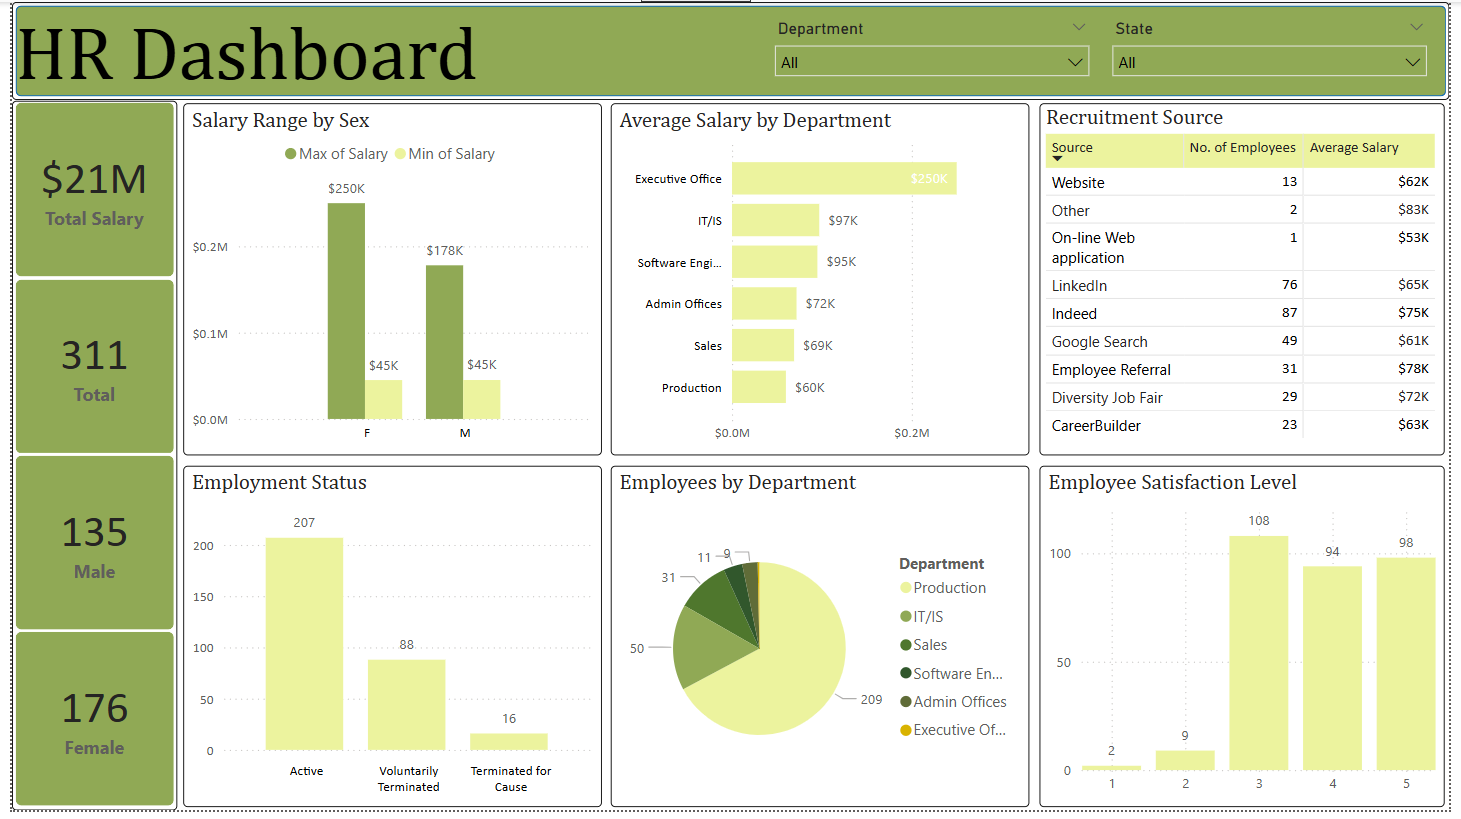

This screenshot's page, from the dashboard's own definition file:
{"tool":"powerbi","page":{"name":"Page 1","canvas":[1280,720],"ordinal":0},"visuals":[{"type":"clusteredColumnChart","title":"Salary Range by Sex","fields":{"Category":["HRDataset_v14.Sex"],"Y":["Max(HRDataset_v14.Salary)","Min(HRDataset_v14.Salary)1"]},"box":[152,90.5,372.8,313.7],"z":0},{"type":"pieChart","title":"Employees by Department","fields":{"Category":["HRDataset_v14.Department"],"Y":["CountNonNull(HRDataset_v14.EmpID)"]},"box":[533.2,412.6,372.8,304],"z":1000},{"type":"clusteredColumnChart","title":"Employee Satisfaction Level","fields":{"Y":["CountNonNull(HRDataset_v14.EmpID)"],"Category":["HRDataset_v14.EmpSatisfaction"]},"box":[914.5,412.6,360.7,304],"z":2000},{"type":"clusteredBarChart","title":"Average Salary by Department","fields":{"Category":["HRDataset_v14.Department"],"Y":["Avg(HRDataset_v14.Salary)"]},"box":[533.2,90.5,372.8,313.7],"z":3000},{"type":"columnChart","title":"Employment Status","fields":{"Category":["HRDataset_v14.EmploymentStatus"],"Y":["CountNonNull(HRDataset_v14.EmpID)"]},"box":[152,412.6,372.8,304],"z":4000},{"type":"pivotTable","title":"Recruitment Source","fields":{"Rows":["HRDataset_v14.RecruitmentSource"],"Values":["CountNonNull(HRDataset_v14.EmpID)","Avg(HRDataset_v14.Salary)"]},"box":[914.5,90.5,360.7,313.7],"z":5000},{"type":"cardVisual","fields":{"Data":["Sum(HRDataset_v14.Salary)","CountNonNull(HRDataset_v14.EmpID)","HRDataset_v14.Male Count","HRDataset_v14.Female Count"]},"box":[0,88.1,147,632.2],"z":6000},{"type":"shape","box":[0,0,1280,86.9],"z":7000},{"type":"slicer","fields":{"Values":["HRDataset_v14.Department"]},"box":[669.6,9.7,300.4,68.8],"z":8000},{"type":"slicer","fields":{"Values":["HRDataset_v14.State"]},"box":[970,9.7,300.4,68.8],"z":9000}]}

Visuals, with their boxes in screenshot pixels (x1, y1, x2, y2), scaled from the page's 1280x720 canvas onto the 1461x819 screenshot:
"Salary Range by Sex" clusteredColumnChart: (173, 103, 599, 460)
"Employees by Department" pieChart: (609, 469, 1034, 815)
"Employee Satisfaction Level" clusteredColumnChart: (1044, 469, 1456, 815)
"Average Salary by Department" clusteredBarChart: (609, 103, 1034, 460)
"Employment Status" columnChart: (173, 469, 599, 815)
"Recruitment Source" pivotTable: (1044, 103, 1456, 460)
cardVisual - Sum(HRDataset_v14.Salary) x CountNonNull(HRDataset_v14.EmpID): (0, 100, 168, 818)
shape: (0, 0, 1460, 99)
slicer - HRDataset_v14.Department: (764, 11, 1107, 89)
slicer - HRDataset_v14.State: (1107, 11, 1450, 89)
